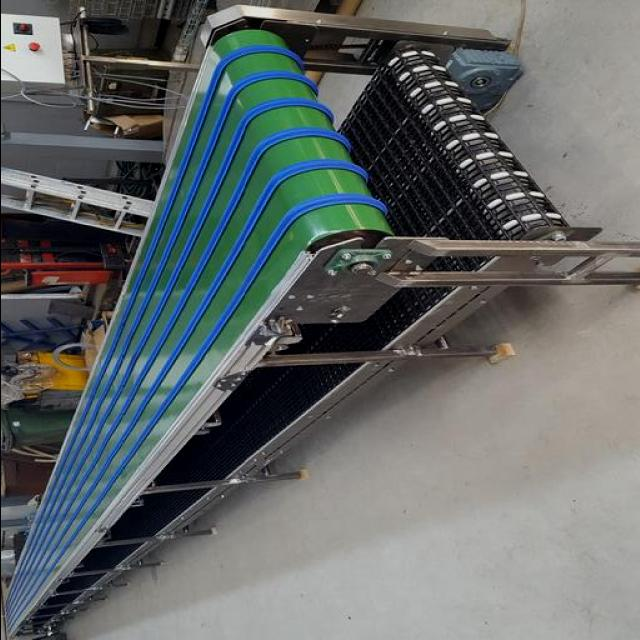conveyor: (3, 28, 393, 632)
